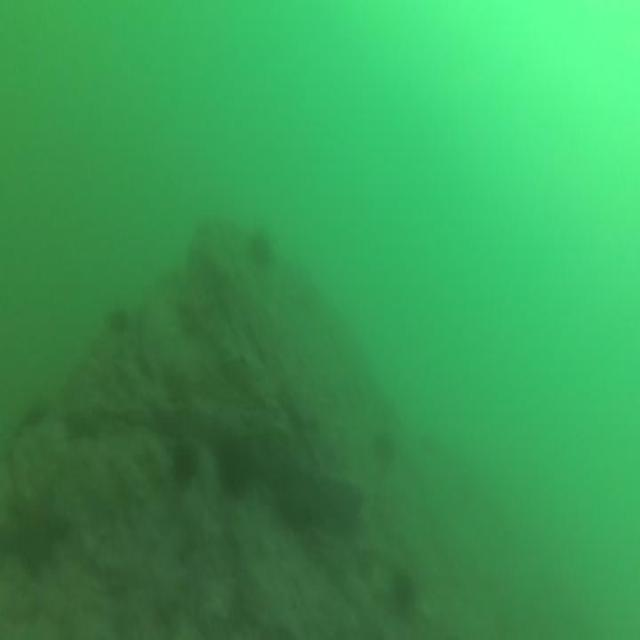echinus: (216, 428, 253, 501), (169, 433, 197, 487), (248, 222, 273, 274)
